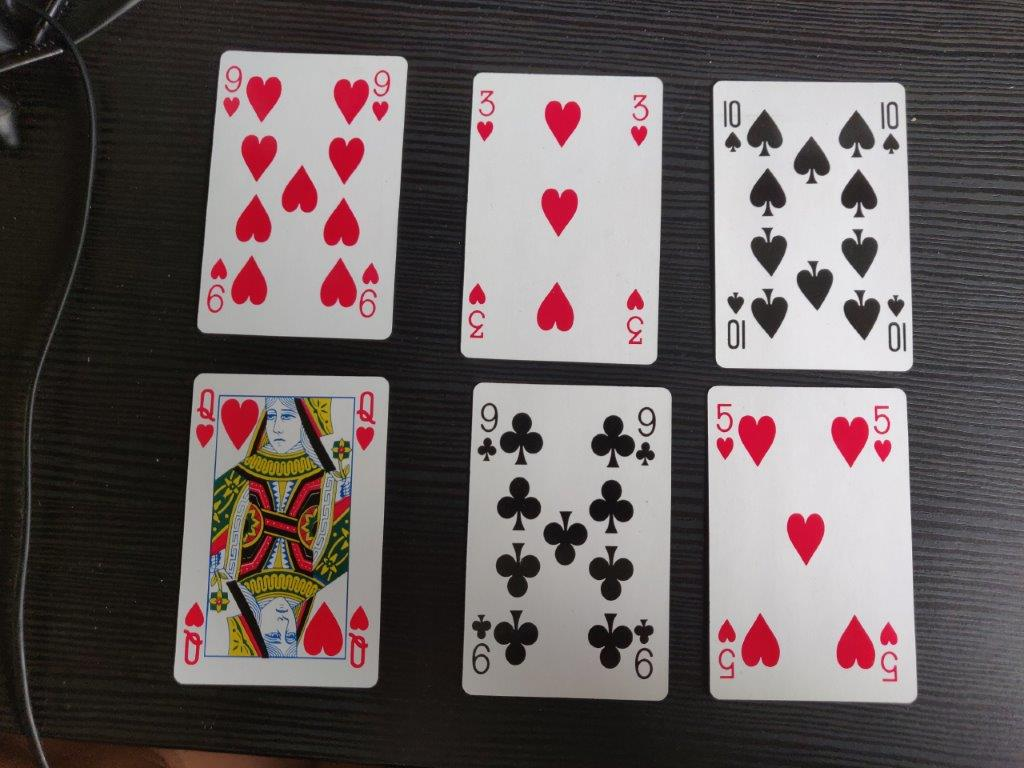10S: (874, 99, 904, 157), (718, 96, 745, 154)
3H: (473, 85, 496, 145), (629, 91, 651, 149)
5H: (868, 399, 898, 470), (711, 399, 736, 464)
9C: (475, 399, 500, 464), (634, 403, 658, 469)
9H: (219, 63, 244, 117), (369, 67, 392, 125)
QH: (353, 388, 380, 456), (194, 386, 220, 451)
